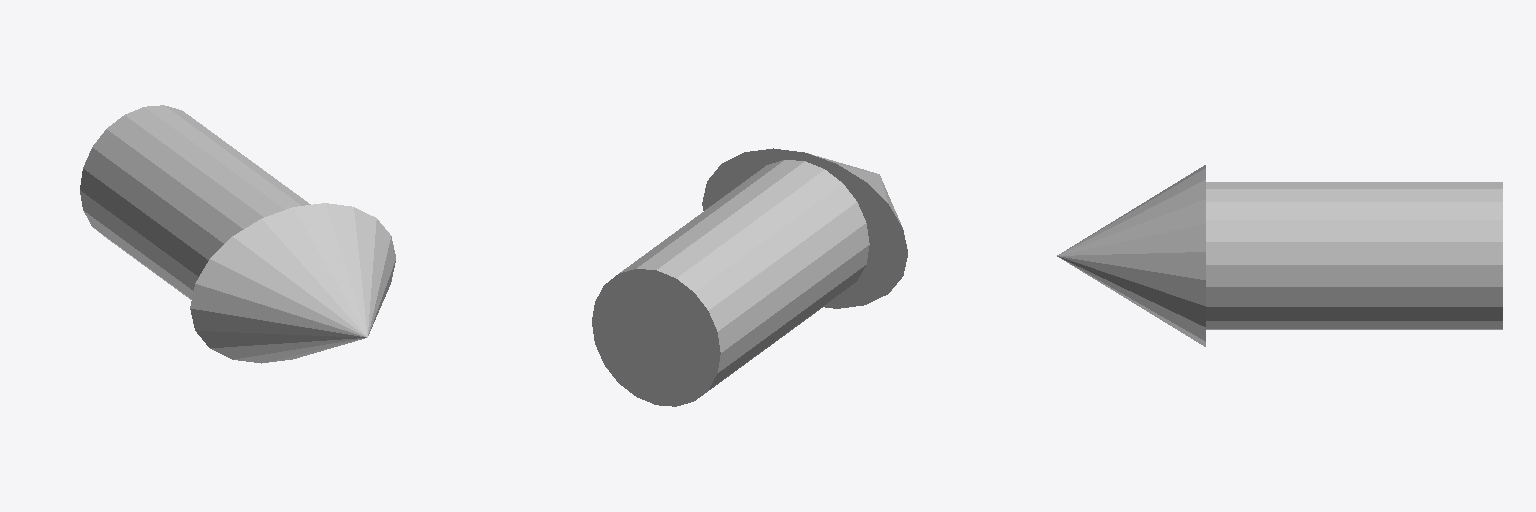
The model's file is rooms.mtl.obj.
3 views of the same model, side by side, from view 1: azimuth 30°, elevation 25°; view 2: azimuth 150°, elevation 25°; view 3: azimuth 270°, elevation 25° (orthographic).
Parts seen in each view (by area): view 1: Cone, Cylinder; view 2: Cylinder, Cone; view 3: Cylinder, Cone.
Boxes of the visible parts, box(x1,y1,x2,y2) form: Cone: box(190, 203, 395, 363); Cylinder: box(80, 105, 310, 299); Cylinder: box(592, 160, 869, 406); Cone: box(702, 148, 907, 308); Cylinder: box(1206, 182, 1502, 329); Cone: box(1057, 165, 1205, 346).
Size of the model in its own units: 0.8 by 0.5646 by 1.5.